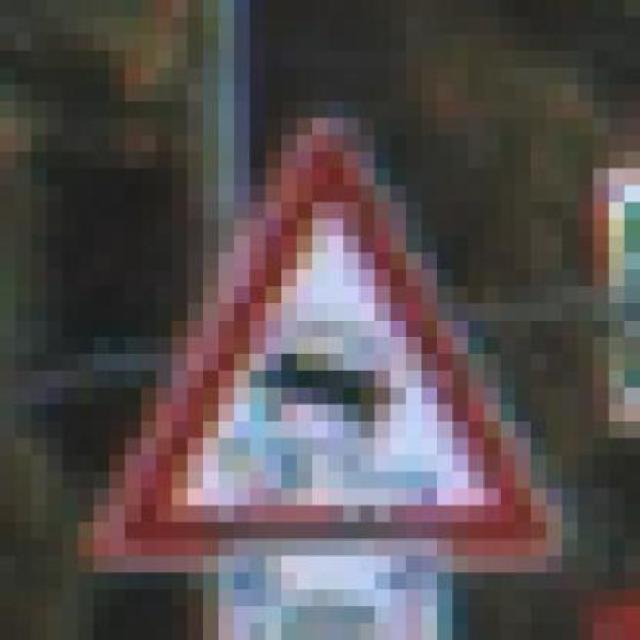Slippery Road Ahead: (93, 101, 593, 573)
